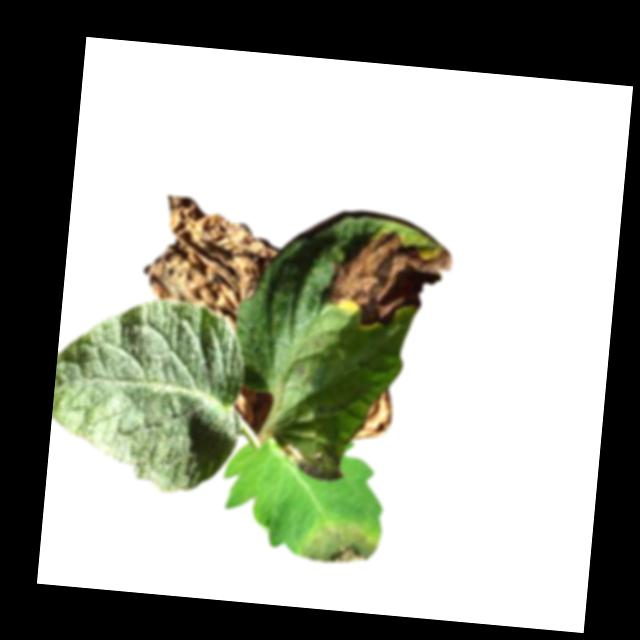Late_blight: (138, 192, 285, 334), (323, 223, 456, 337), (298, 515, 379, 572), (278, 436, 345, 482), (354, 385, 395, 443), (230, 382, 274, 432)
